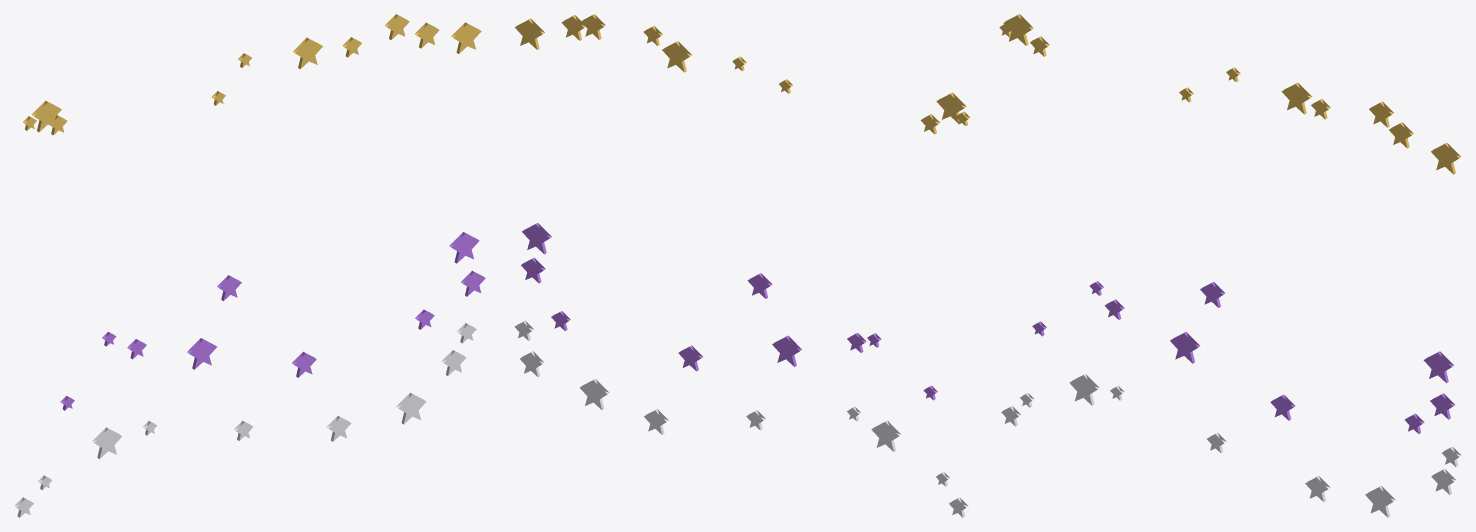
Rendered from star-shower.glb.
The picture shows the model from 3 angles, left to right: view 1: azimuth 30°, elevation 25°; view 2: azimuth 150°, elevation 25°; view 3: azimuth 330°, elevation 25°; orthographic projection.
Visible parts, largest first — view 1: no part large enough to name; view 2: no part large enough to name; view 3: falling star (×5).
Boxes of the visible parts, left/top/right/bottom form: falling star (×5): left=1003, top=14, right=1453, bottom=517.
Bounding box in the file's own units: 4.17 × 3.6 × 0.195.
